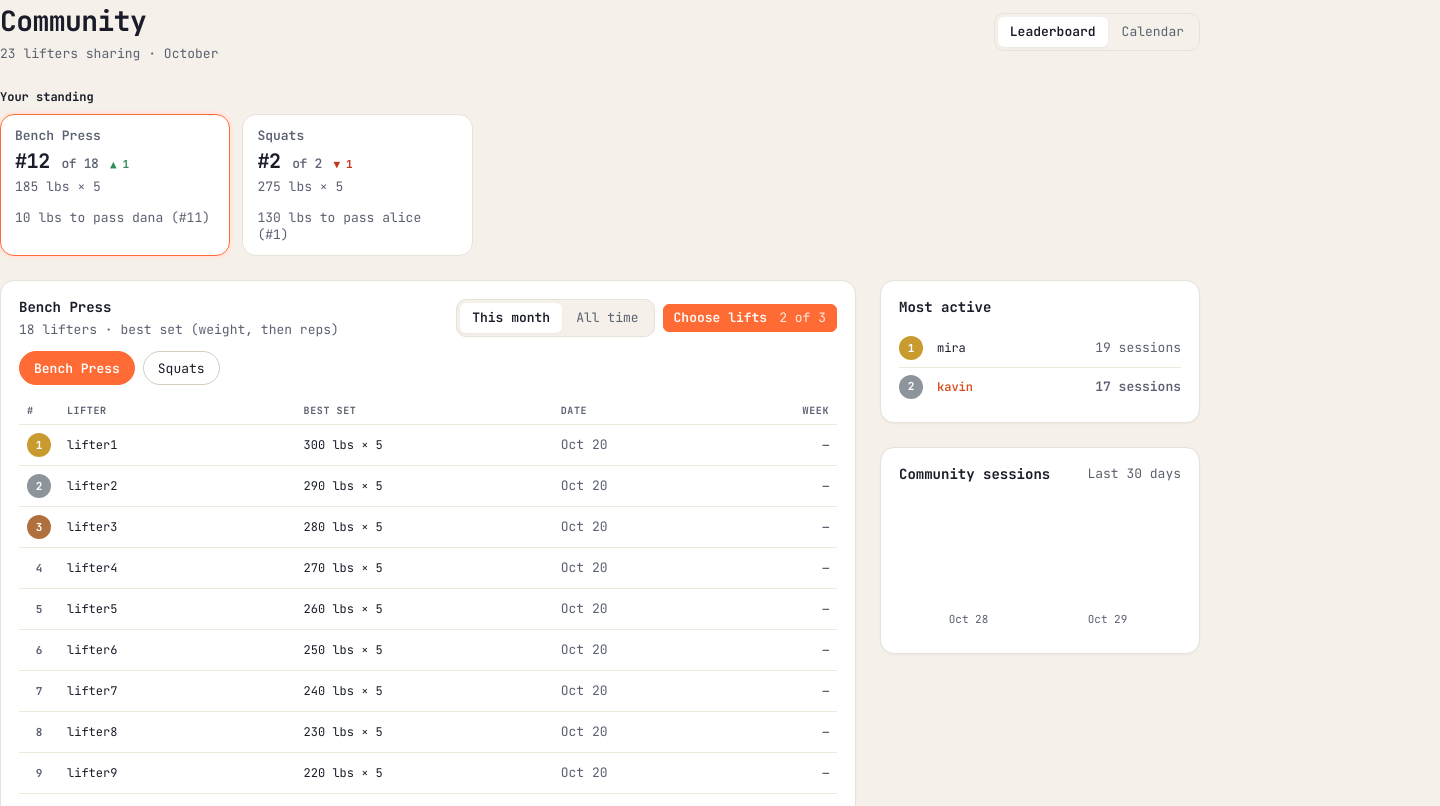
Test: Community — choose lifts › adding a lift in Choose lifts shows its chip and standing, and remembers it
Click the button "Choose lifts 2 of 3" at (750, 318), box [663,304,837,332]
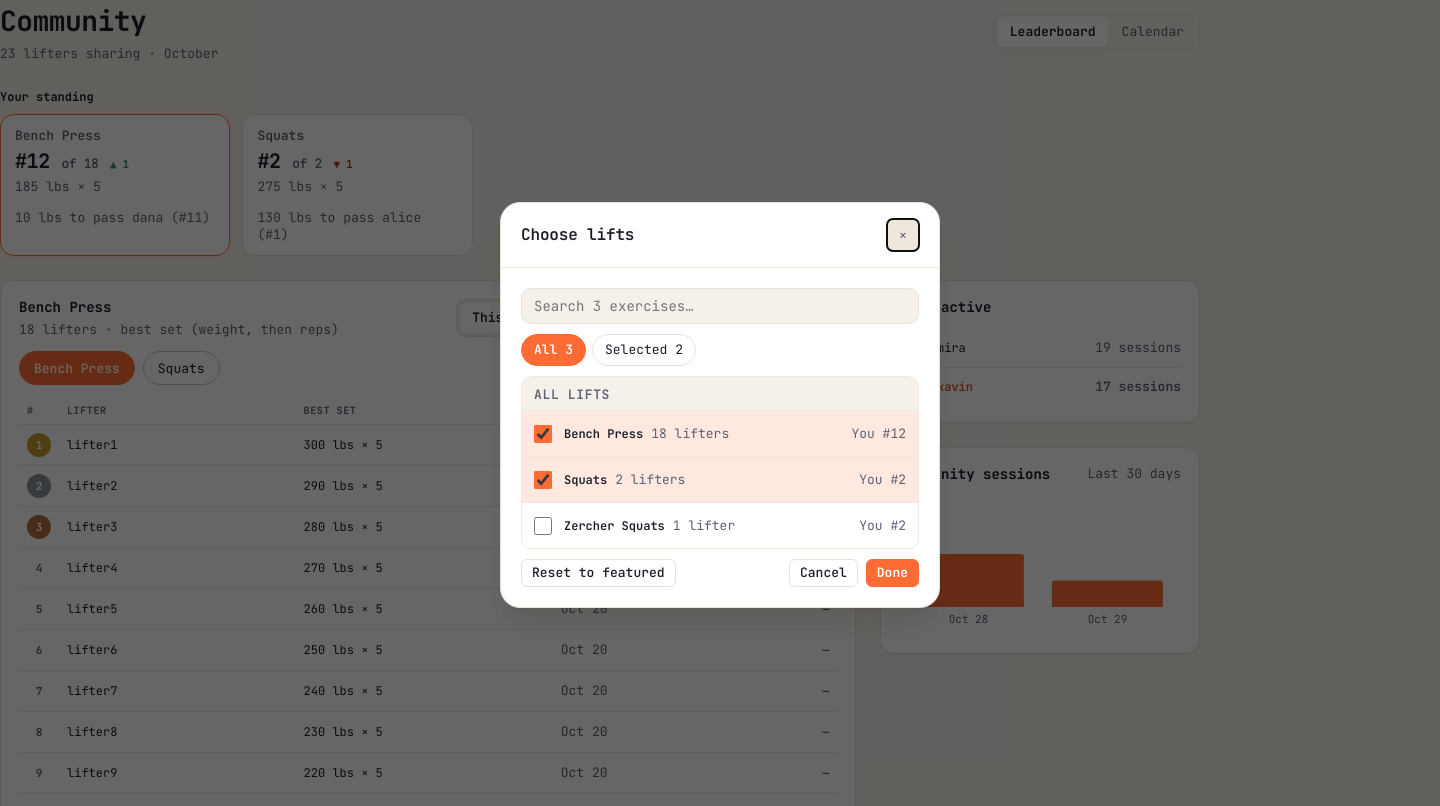
Click the checkbox labelled "Zercher Squats1 lifter You #2" at (543, 526), box [534,517,552,535]
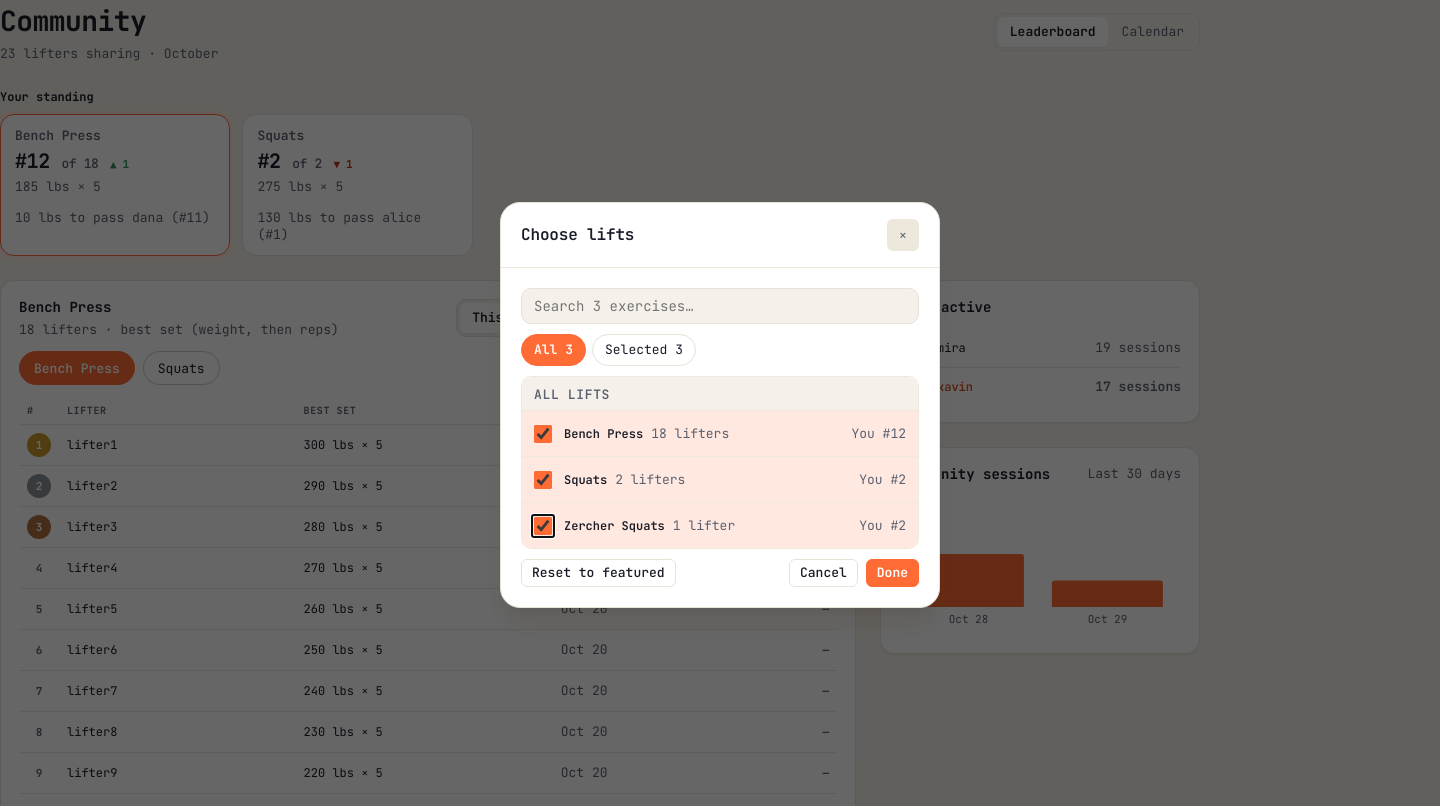
Click the button "Done" at (892, 573), box [866,559,919,587]
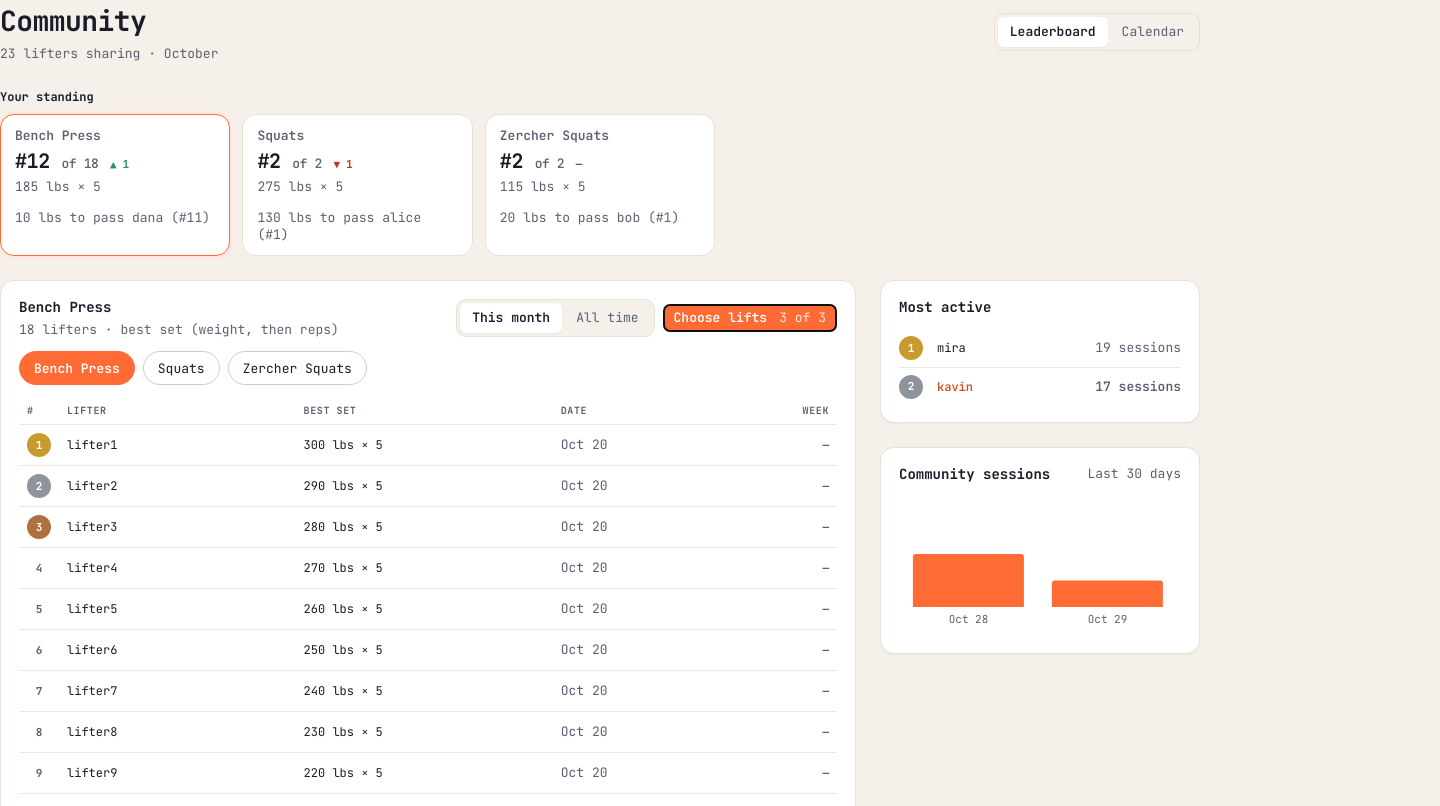
Expected: the button "Zercher Squats #2 of 2 — 115 lbs × 5 20 lbs to pass bob (#1)" is shown, [485,114,715,256]
